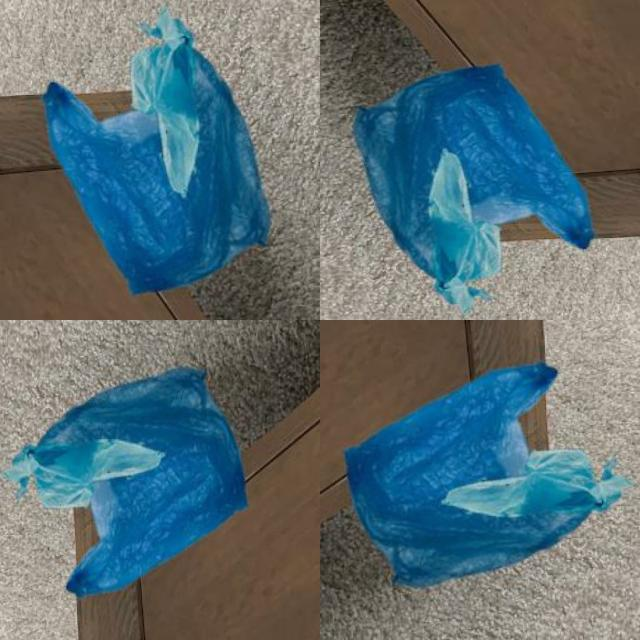Single-layer Plastic: (44, 10, 270, 294), (345, 362, 628, 586), (354, 65, 594, 312), (6, 368, 246, 596)
